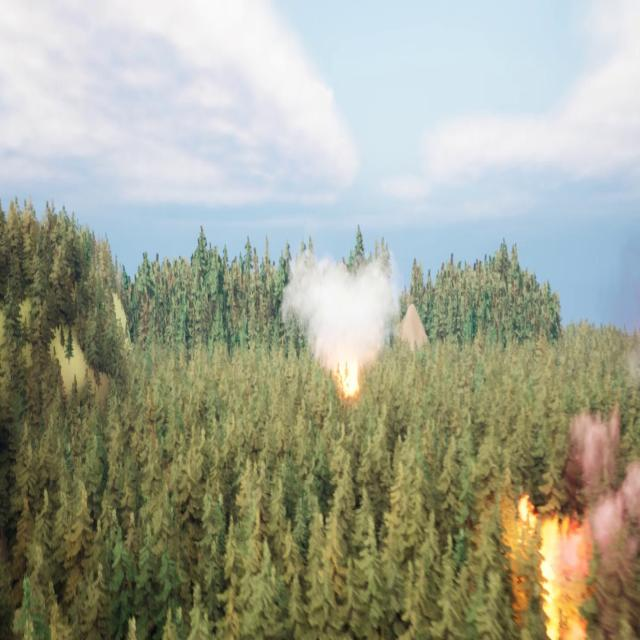fire: (518, 490, 579, 639), (336, 356, 369, 414)
smoke: (280, 242, 405, 376), (571, 400, 640, 639)
